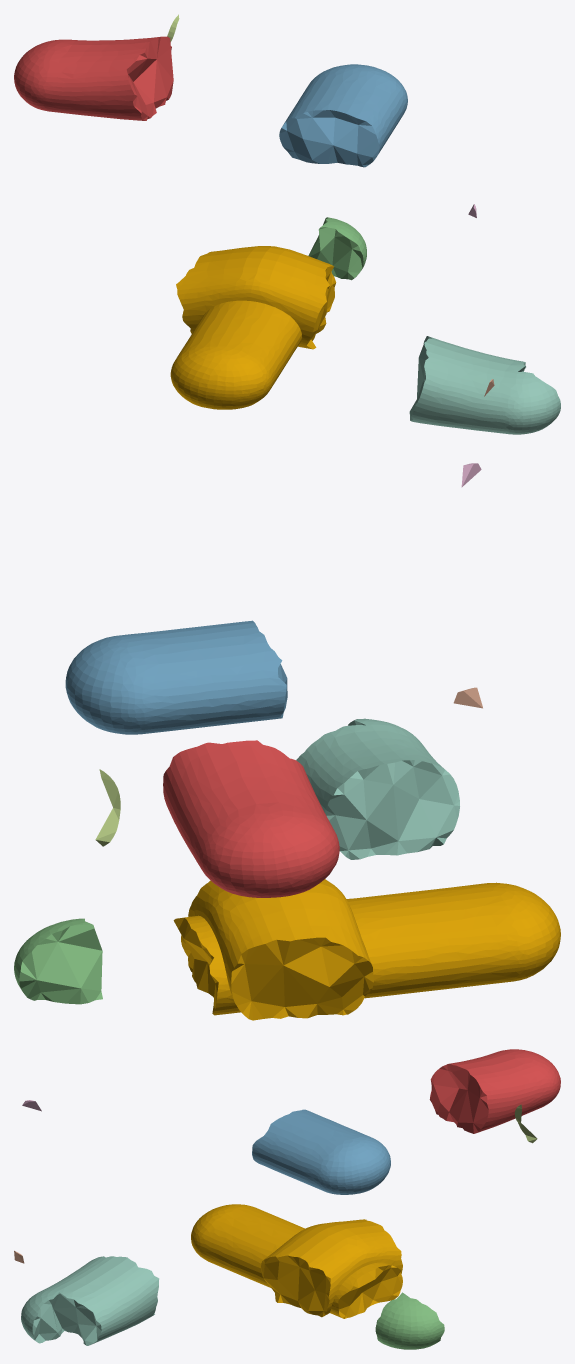
File: fractured_65_8pcs_transformed.glb
The picture shows the model from 3 angles, top to bottom: view 1: azimuth 30°, elevation 25°; view 2: azimuth 150°, elevation 25°; view 3: azimuth 270°, elevation 25°; orthographic projection. The views are drawn at different scales.
Parts seen in each view (by area): view 1: piece_0.obj, piece_1.obj, piece_4.obj, piece_2.obj, piece_3.obj; view 2: piece_0.obj, piece_1.obj, piece_2.obj, piece_4.obj, piece_3.obj, piece_5.obj; view 3: piece_0.obj, piece_4.obj, piece_2.obj, piece_1.obj, piece_3.obj.
Boxes of the visible parts, x1,y1,x2,y2 form: piece_0.obj: (170,246,336,409); piece_1.obj: (14,36,173,120); piece_4.obj: (409,336,560,434); piece_2.obj: (279,64,407,167); piece_3.obj: (308,217,366,280); piece_0.obj: (173,879,560,1020); piece_1.obj: (163,740,339,897); piece_2.obj: (65,620,287,734); piece_4.obj: (296,718,459,859); piece_3.obj: (14,918,102,1004); piece_5.obj: (95,769,120,846); piece_0.obj: (191,1204,402,1318); piece_4.obj: (21,1256,159,1345); piece_2.obj: (252,1109,390,1194); piece_1.obj: (429,1049,560,1133); piece_3.obj: (375,1292,444,1349).
Size of the model in its own units: 0.9999 by 0.809 by 1.91.
